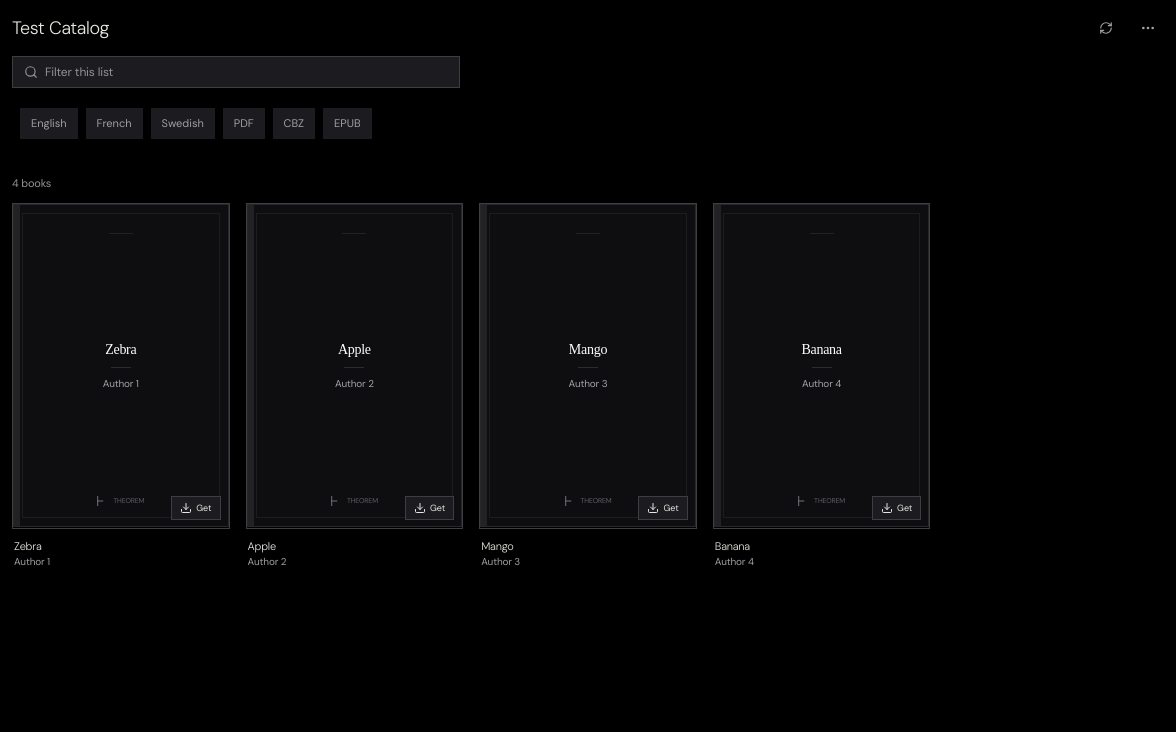
Test: catalog sort and filters › narrows to a language across its regional variants and reports the narrowed count
Click the button "English": (49, 123) [20,108,78,138]
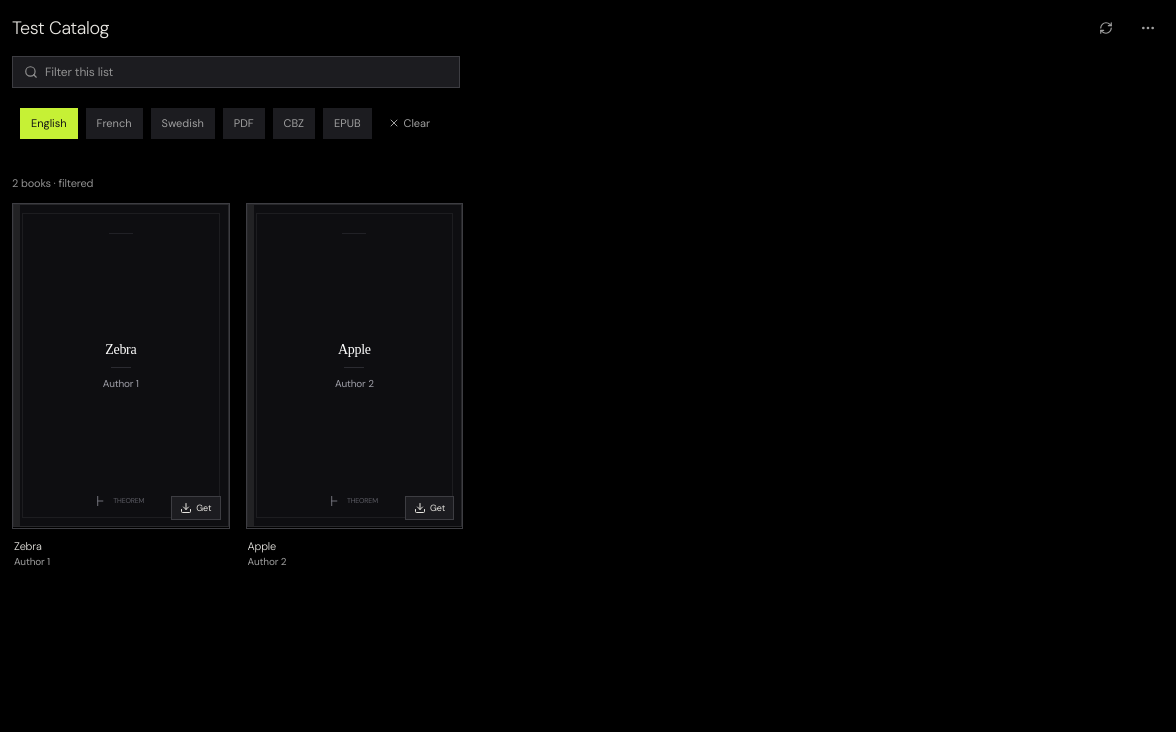
Check: the text "2 books · filtered" is shown, box [12,176,93,190]
